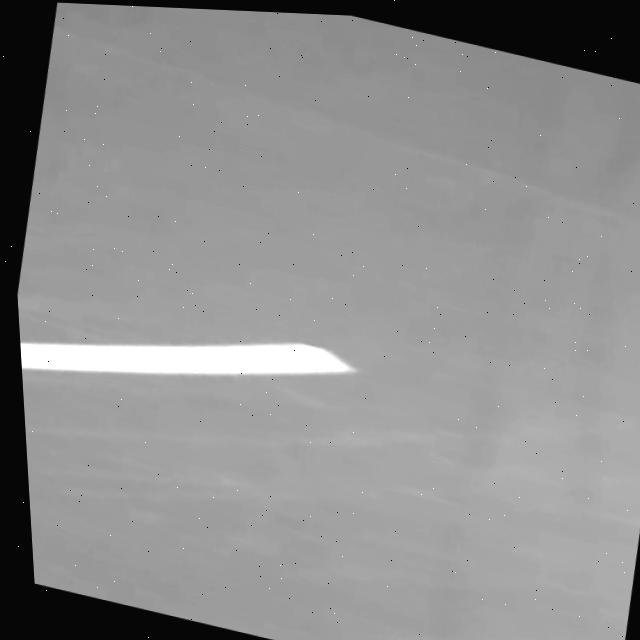center: (20, 342, 354, 374)
